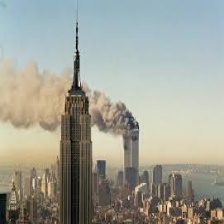smoke: (3, 60, 146, 143)
